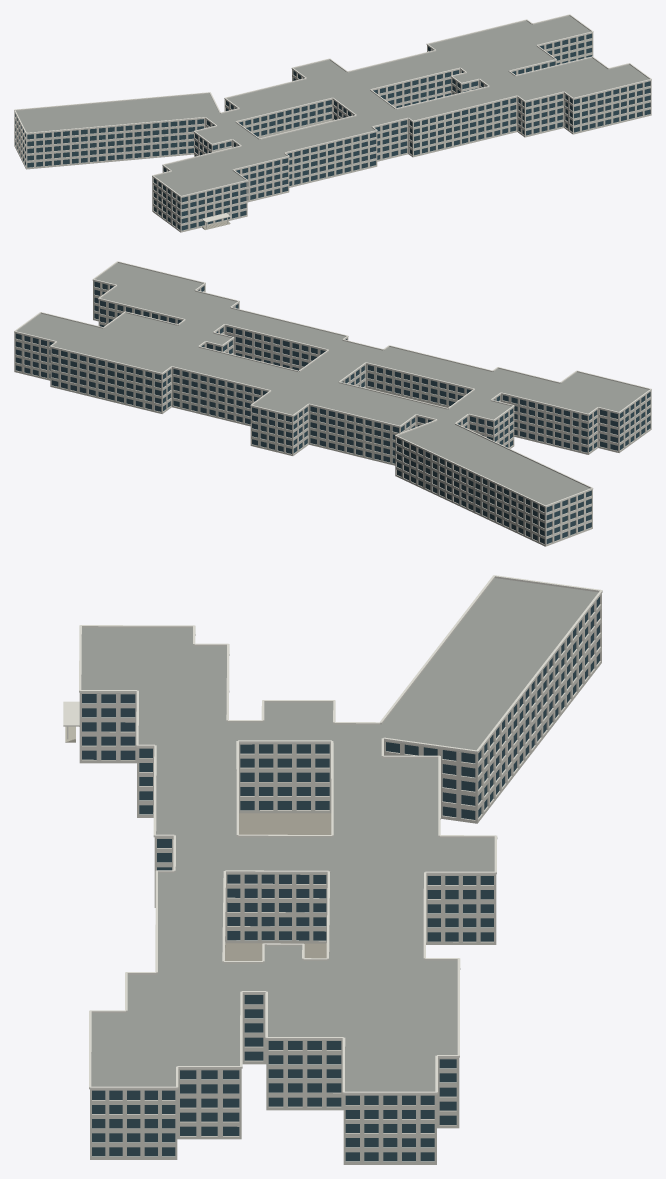
Rendered from teaching1.far.glb.
3 renders of one model, top to bottom at view 1: azimuth 30°, elevation 25°; view 2: azimuth 150°, elevation 25°; view 3: azimuth 270°, elevation 25°, orthographic. The views are drawn at different scales.
Parts seen in each view (by area): view 1: roof, wall, glass, trim; view 2: roof, wall, glass, trim; view 3: roof, wall, glass, trim, paving.
Boxes of the visible parts, box(x1,y1,x2,y2) form: roof: box(16, 16, 648, 195); wall: box(14, 33, 651, 232); glass: box(15, 33, 650, 230); trim: box(14, 14, 651, 228); roof: box(17, 263, 648, 505); wall: box(14, 280, 651, 546); glass: box(15, 281, 650, 543); trim: box(14, 261, 651, 507); roof: box(81, 578, 598, 1091); wall: box(79, 594, 601, 1164); glass: box(82, 597, 599, 1161); trim: box(67, 575, 602, 1094); paving: box(225, 813, 331, 960).
Bounding box in the file's own units: 250 × 16.34 × 110.
